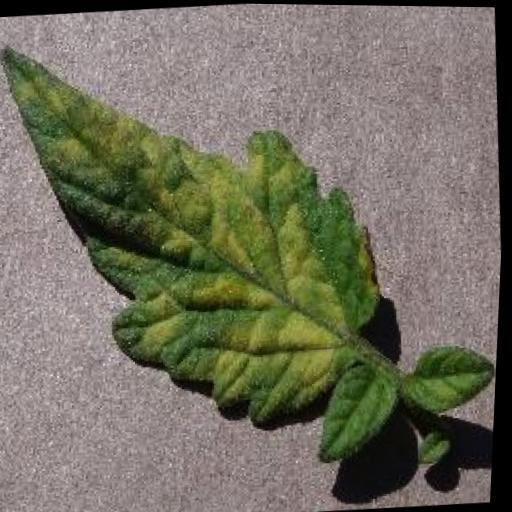Leaf Mold: (0, 21, 400, 440)
